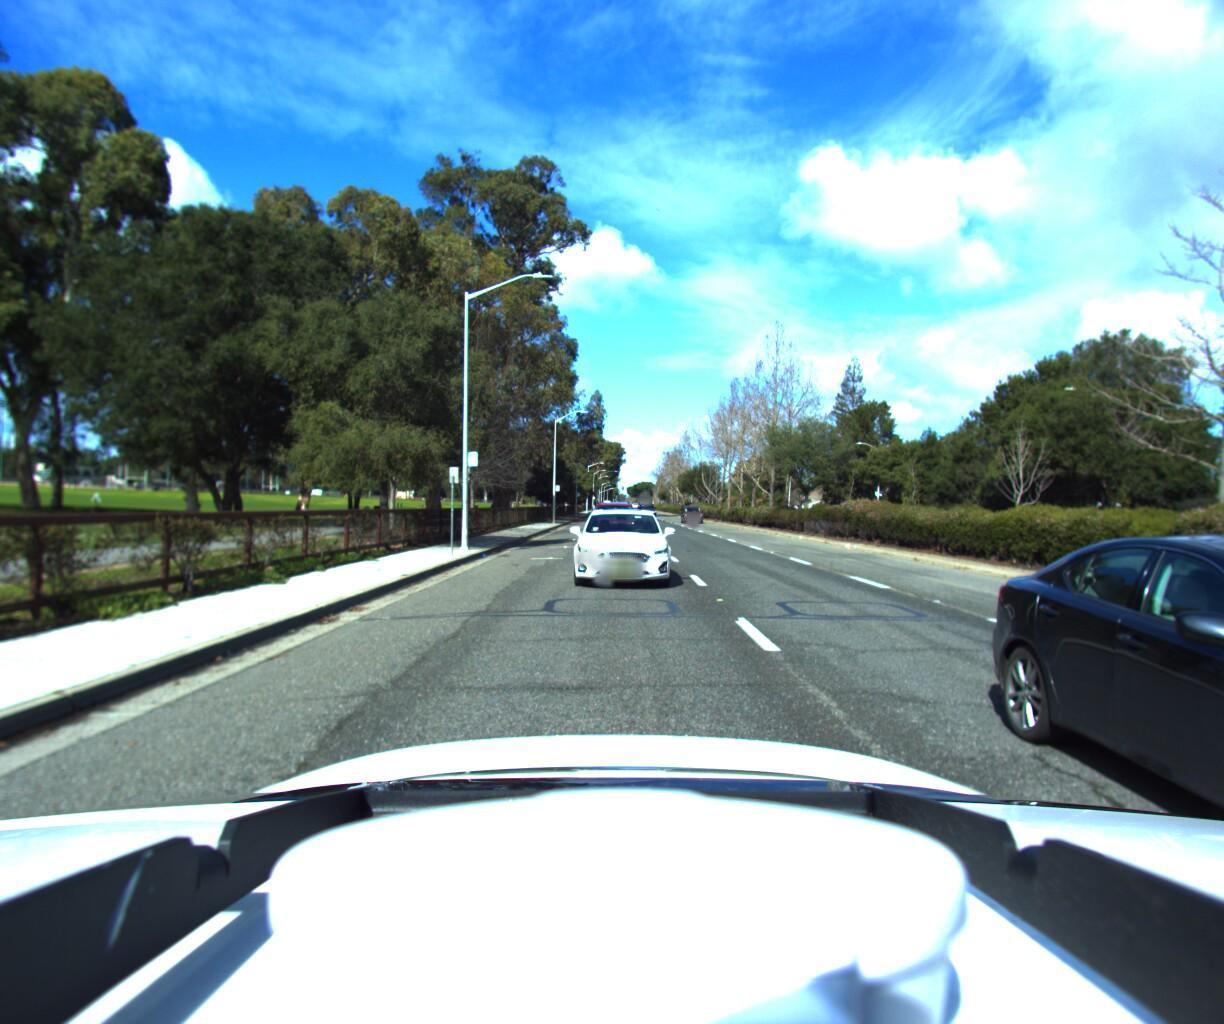car: (1049, 518, 1224, 1024), (563, 505, 674, 590), (587, 498, 640, 544), (680, 503, 706, 523), (637, 503, 657, 518)
